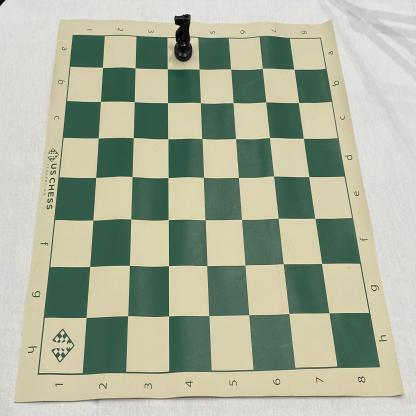black-knight: (172, 12, 194, 64)
